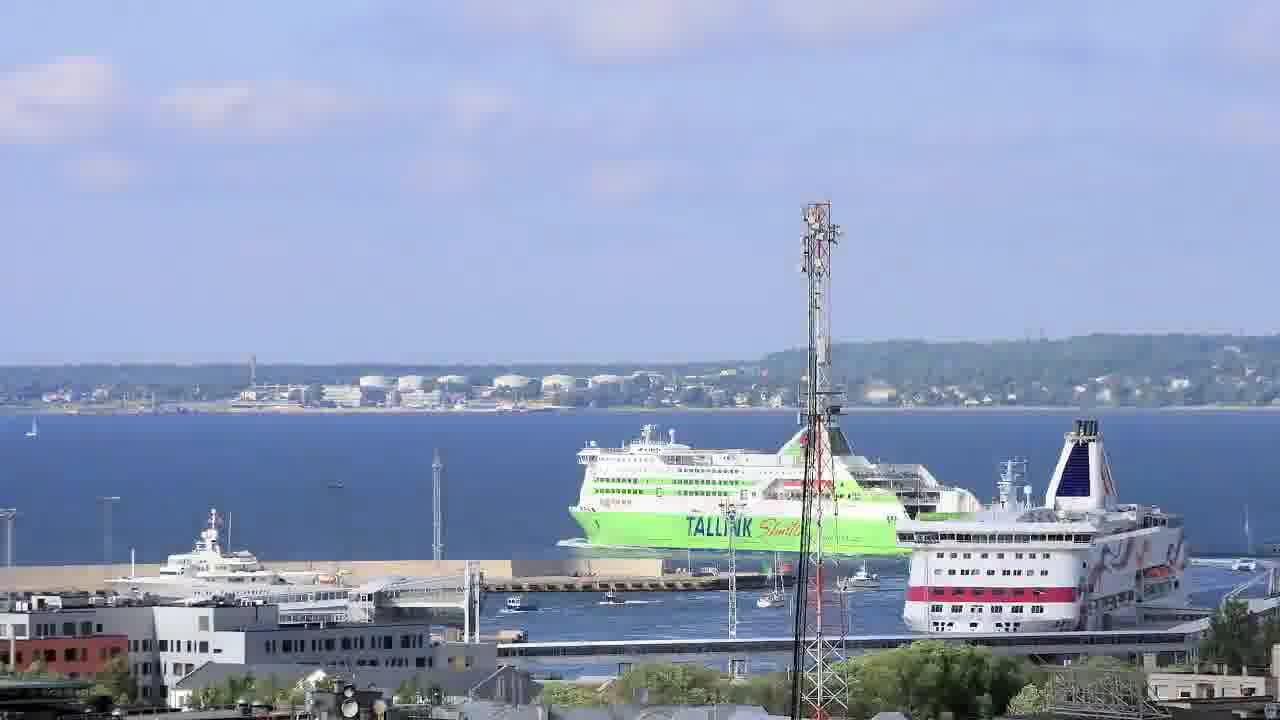type-0: (743, 575, 791, 621), (824, 566, 885, 602), (491, 584, 548, 620), (590, 586, 630, 611)
type-2: (12, 411, 50, 448)
type-3: (868, 415, 1225, 638), (566, 421, 968, 573), (84, 511, 353, 609)
